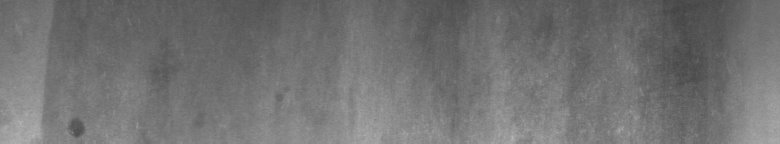fi: (64, 117, 91, 136)
